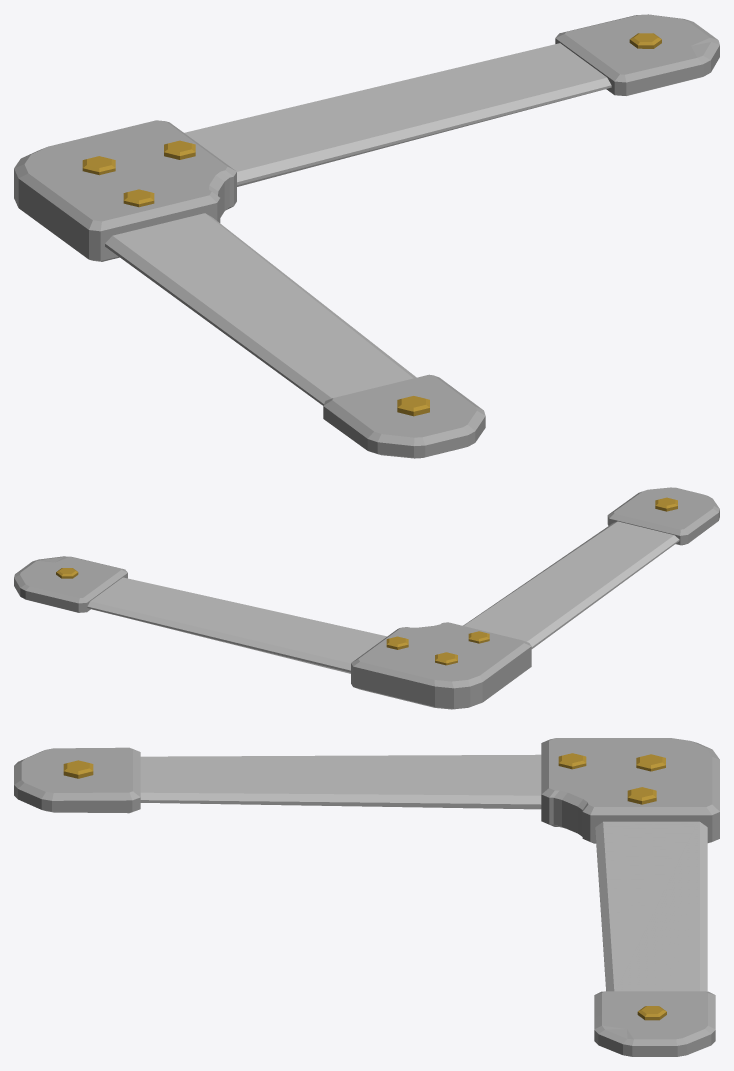
The model's file is ENV_Object_Boomerang_01.fbx.
3 renders of one model, top to bottom at view 1: azimuth 30°, elevation 25°; view 2: azimuth 150°, elevation 25°; view 3: azimuth 270°, elevation 25°, orthographic. The views are drawn at different scales.
Parts seen in each view (by area): view 1: ENV_Object_Boomerang_01_visual; view 2: ENV_Object_Boomerang_01_visual; view 3: ENV_Object_Boomerang_01_visual.
Boxes of the visible parts, box(x1,y1,x2,y2) form: ENV_Object_Boomerang_01_visual: box(14, 14, 719, 458); ENV_Object_Boomerang_01_visual: box(14, 487, 719, 709); ENV_Object_Boomerang_01_visual: box(14, 738, 719, 1056).
Bounding box in the file's own units: 55.84 × 4.17 × 55.84.
